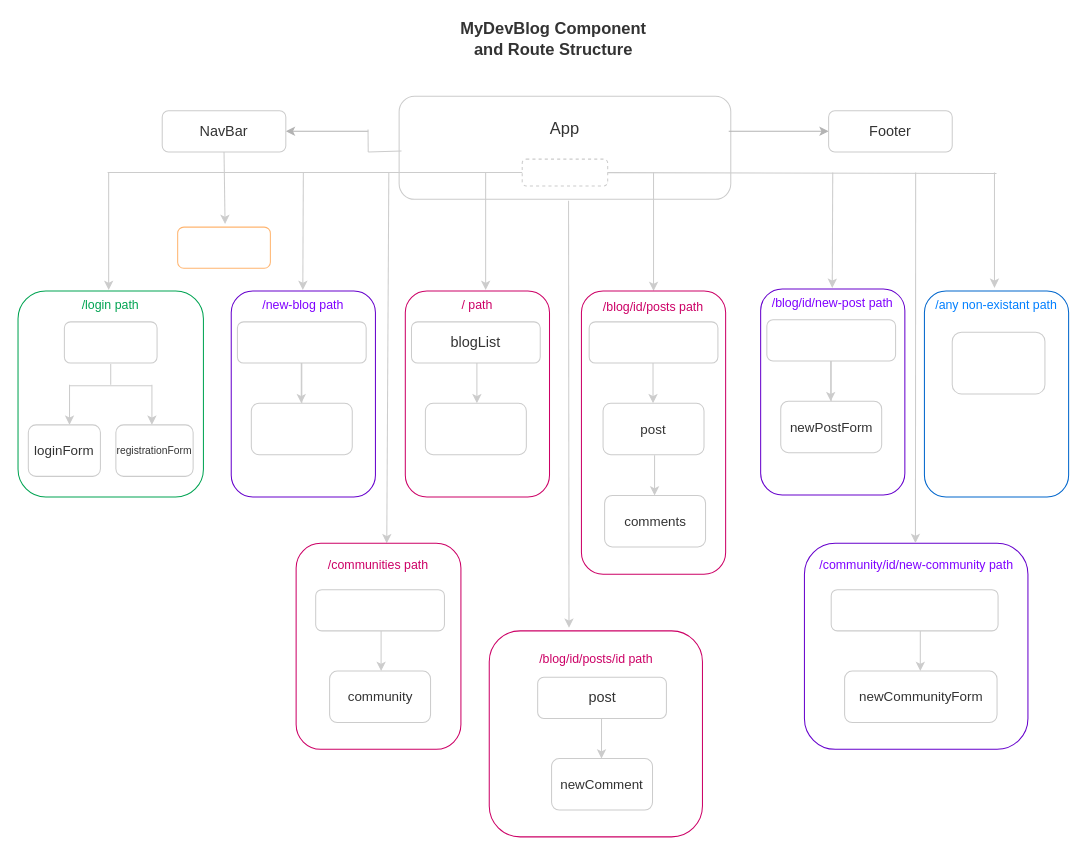
Image size: 1087x855. Some labels were removed from this diagram. The centre of each missing label's shape, as x and y in pixels:
blog: point 475,428
communityList: point 379,610
Error 404: point 998,362
loginControl: point 110,342
newBlogControl: point 301,342
newBlogForm: point 301,428
newCommunityControl: point 914,610
newPostControl: point 831,340
postList: point 653,342
Routes: point 564,172
searchBox: point 223,247
